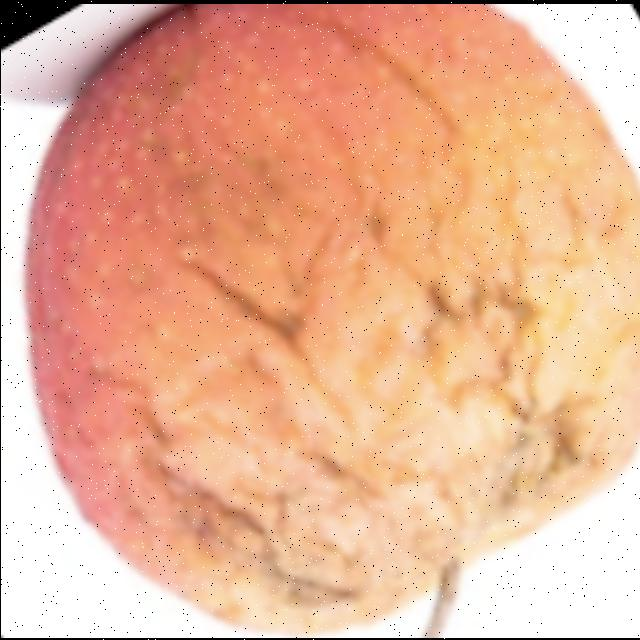Apel Tidak Segar: (26, 3, 640, 637)
